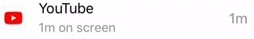name: (35, 1, 99, 17)
time: (36, 19, 58, 36)
